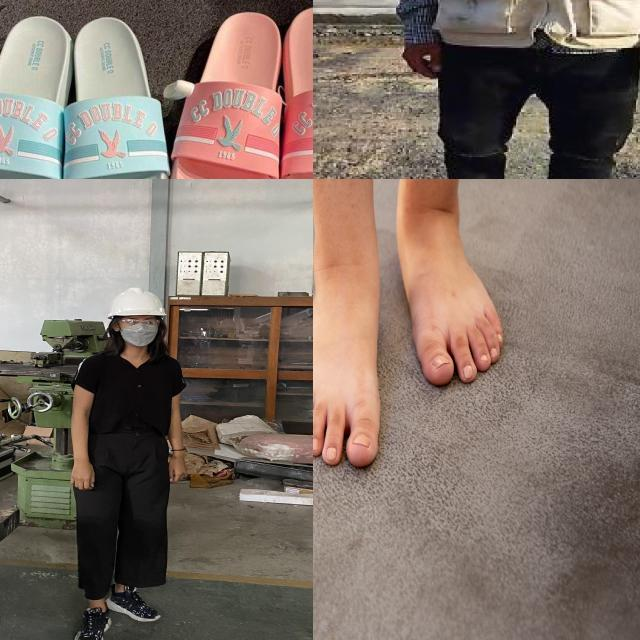Sandals: (0, 0, 166, 179), (170, 0, 313, 179), (396, 190, 503, 381), (313, 219, 379, 463)
face_mask: (116, 314, 163, 346)
glasses: (116, 316, 164, 329)
hand_noglove: (65, 459, 100, 494), (168, 455, 187, 484)
head_helmet: (103, 286, 169, 319)
person: (56, 283, 200, 640), (390, 0, 640, 179)
shoes: (100, 582, 164, 623), (72, 604, 115, 640)
vest: (419, 0, 640, 57)
